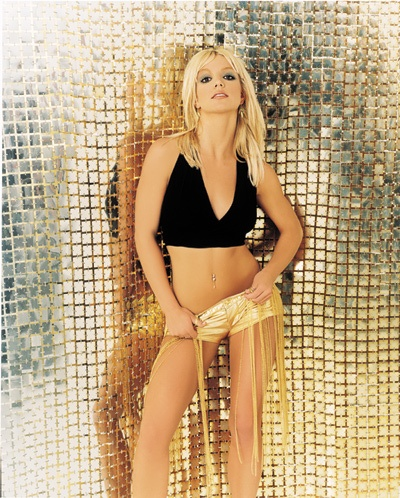head: (191, 45, 245, 114)
person: (125, 47, 306, 495)
